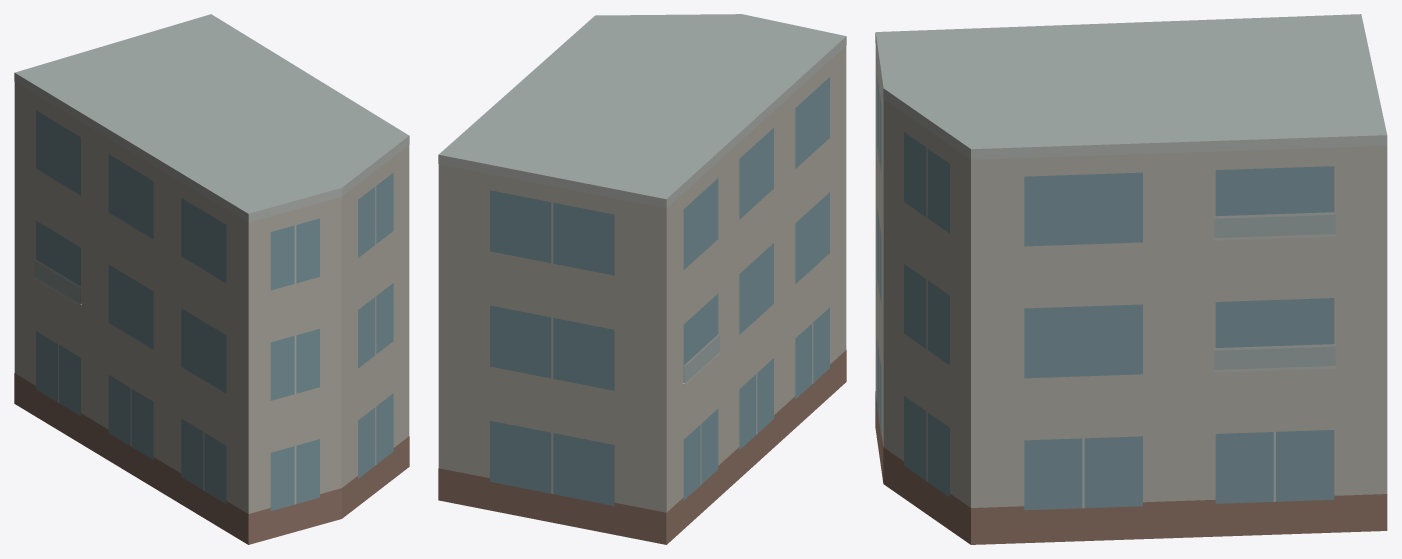
File: survey-upis-32960214.glb
3 renders of one model, left to right at view 1: azimuth 30°, elevation 25°; view 2: azimuth 150°, elevation 25°; view 3: azimuth 270°, elevation 25°, orthographic. The views are drawn at different scales.
Visible parts, largest first — view 1: survey-upis-32960214.tmp; view 2: survey-upis-32960214.tmp; view 3: survey-upis-32960214.tmp.
Part boxes in pixels (x1,y1,x2,y2): survey-upis-32960214.tmp: [14, 14, 409, 544]; survey-upis-32960214.tmp: [438, 14, 846, 544]; survey-upis-32960214.tmp: [875, 14, 1387, 544].
Bounding box in the file's own units: 6.68 × 9.1 × 10.68.
